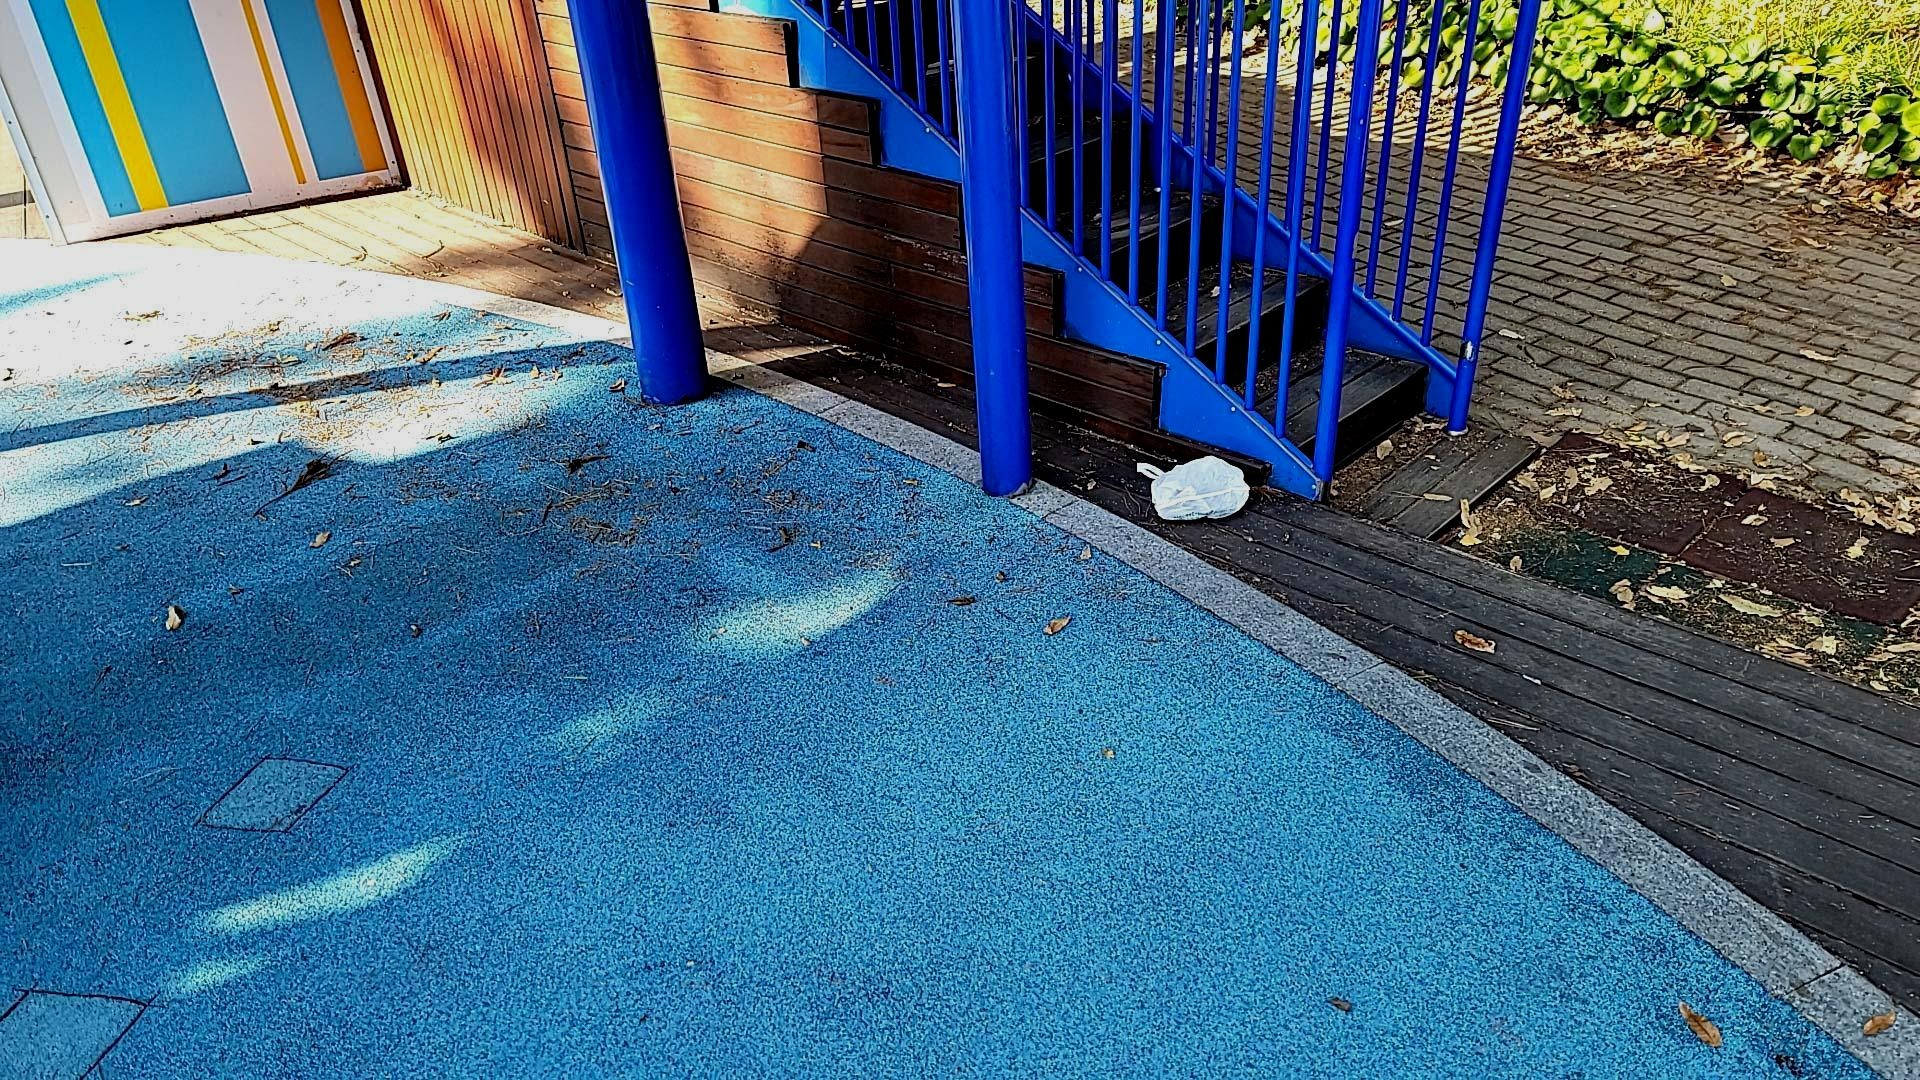white_bag: (1124, 444, 1258, 534)
